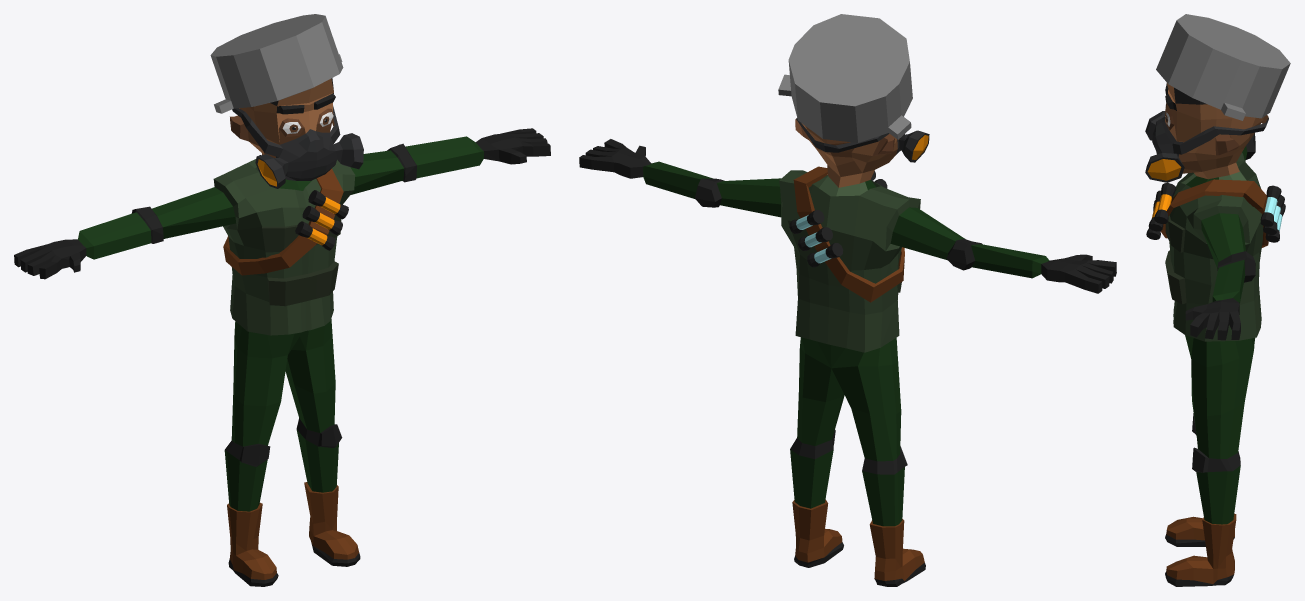
The model's file is Prophet.fbx.
The picture shows the model from 3 angles, left to right: view 1: azimuth 30°, elevation 25°; view 2: azimuth 150°, elevation 25°; view 3: azimuth 270°, elevation 25°; orthographic projection.
Visible parts, largest first — view 1: Cylinder.005; view 2: Cylinder.005; view 3: Cylinder.005.
Part boxes in pixels (x1,y1,x2,y2): Cylinder.005: (14,14,550,586); Cylinder.005: (579,14,1116,586); Cylinder.005: (1145,14,1290,586).
Size of the model in its own units: 386 by 384 by 94.38.
